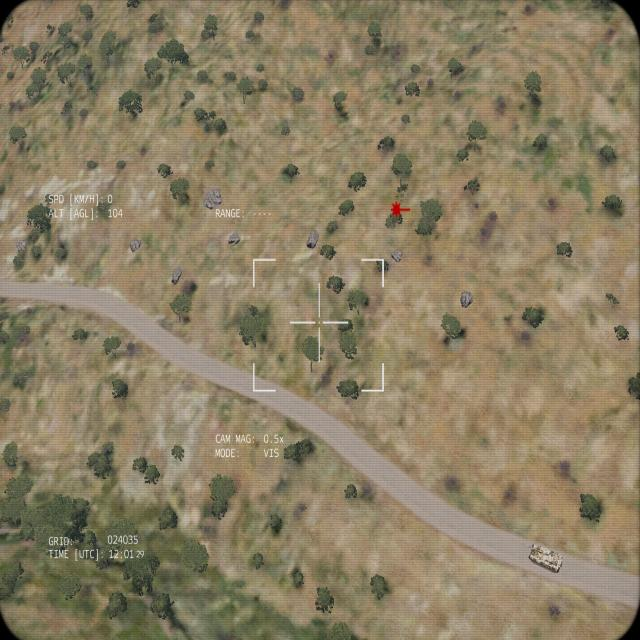tank: (518, 536, 562, 574)
